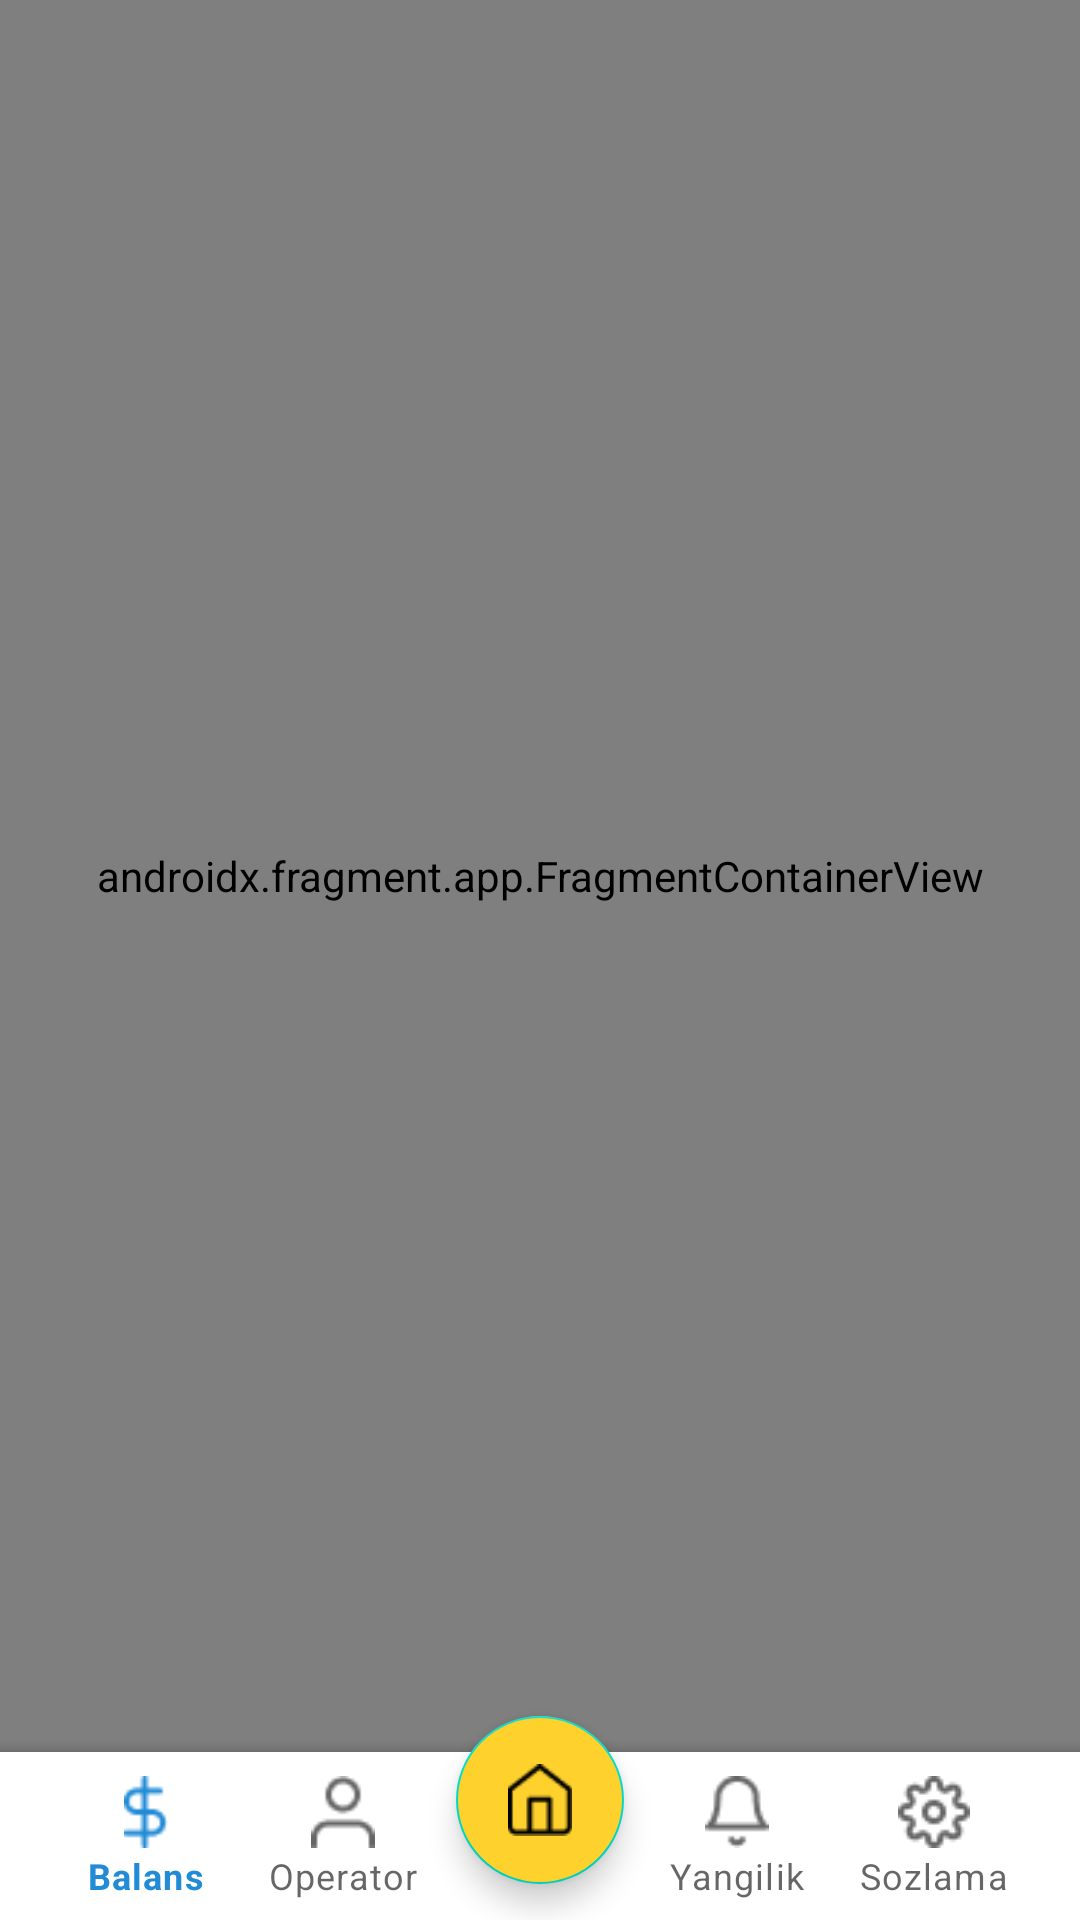

Icons on this 1080x1920 Android screen, each with the point to tap as (x=x, y=y):
home: (x=540, y=1800)
